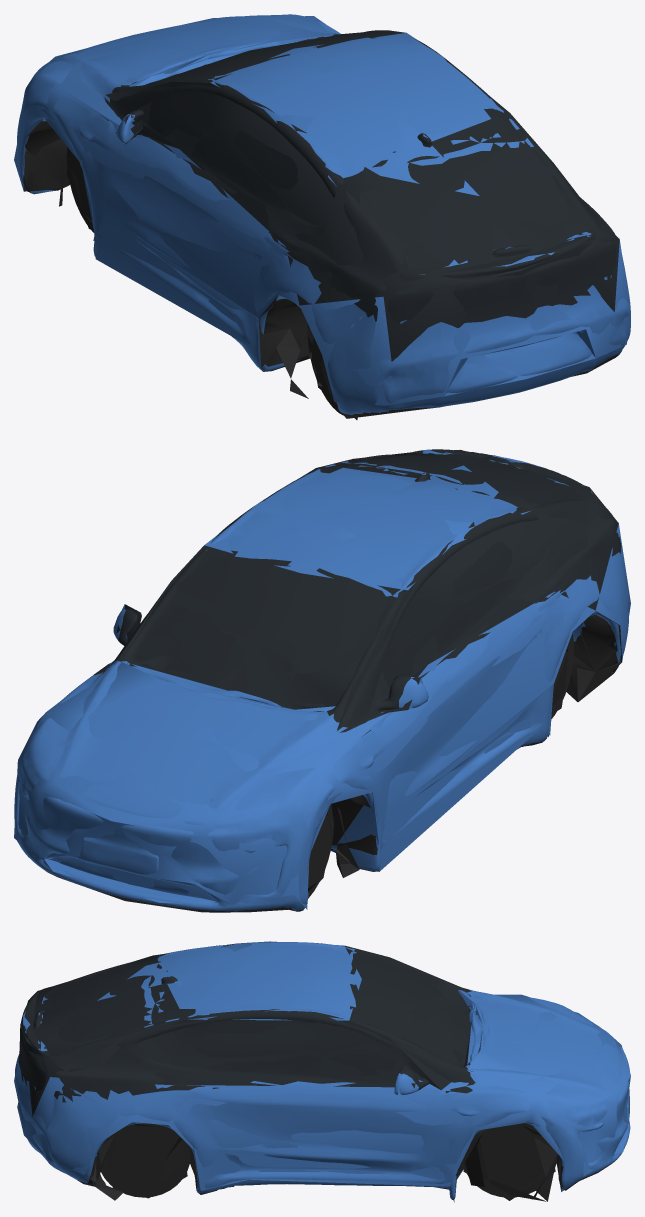
The model's file is tesla-model-y.glb.
The picture shows the model from 3 angles, top to bottom: view 1: azimuth 30°, elevation 25°; view 2: azimuth 150°, elevation 25°; view 3: azimuth 270°, elevation 25°; orthographic projection. The views are drawn at different scales.
Parts seen in each view (by area): view 1: body, far; view 2: body, far; view 3: body, far.
Boxes of the visible parts, bbox=[...] form: body: bbox=[17, 14, 630, 418]; far: bbox=[14, 16, 630, 419]; body: bbox=[14, 449, 628, 912]; far: bbox=[14, 449, 630, 909]; body: bbox=[15, 942, 630, 1200]; far: bbox=[14, 941, 630, 1202].
Size of the model in its own units: 2.15 by 1.64 by 4.82.
